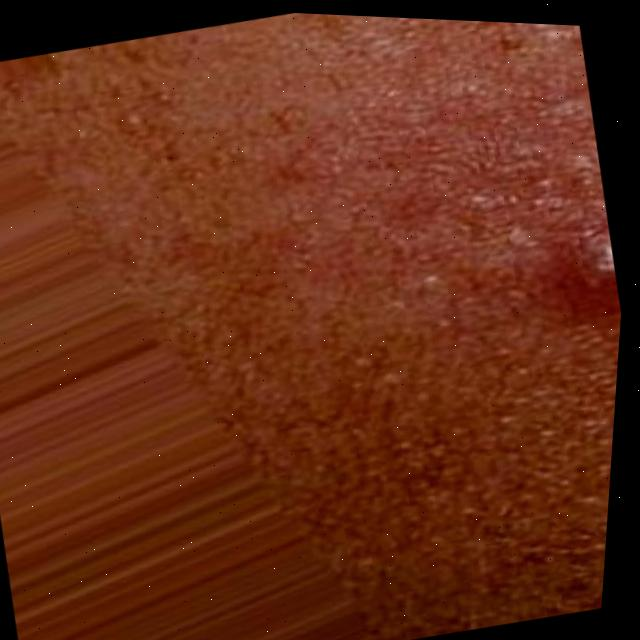Rosacea: (549, 228, 626, 326)
